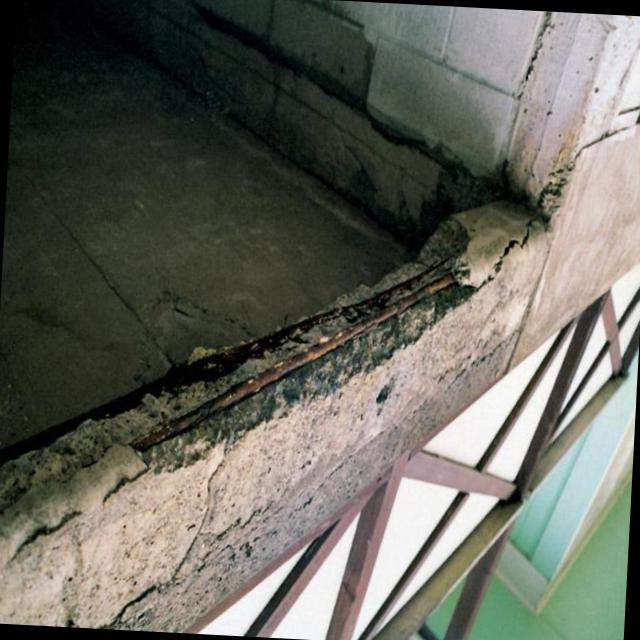spalling: (0, 219, 488, 516)
